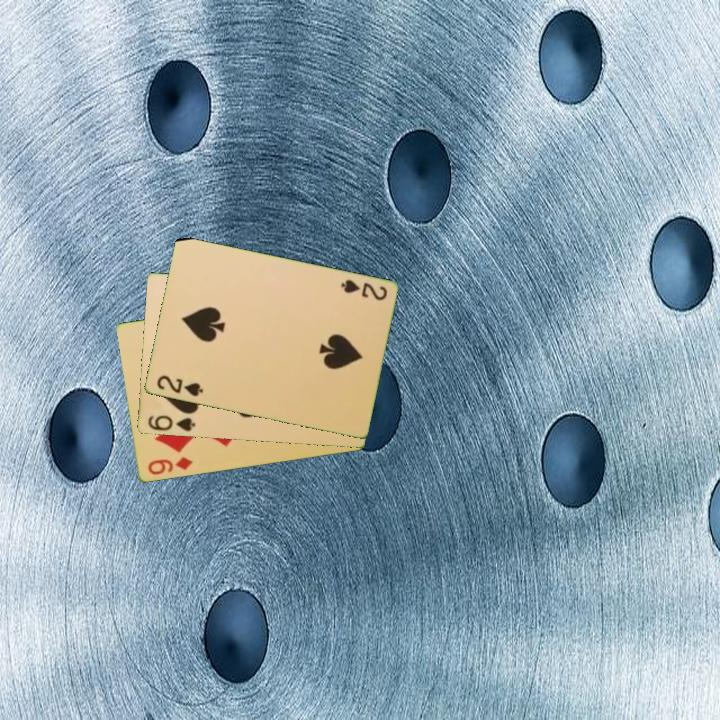2s: (153, 372, 206, 400), (337, 276, 390, 304)
6s: (144, 412, 198, 435)
9d: (144, 454, 196, 478)
